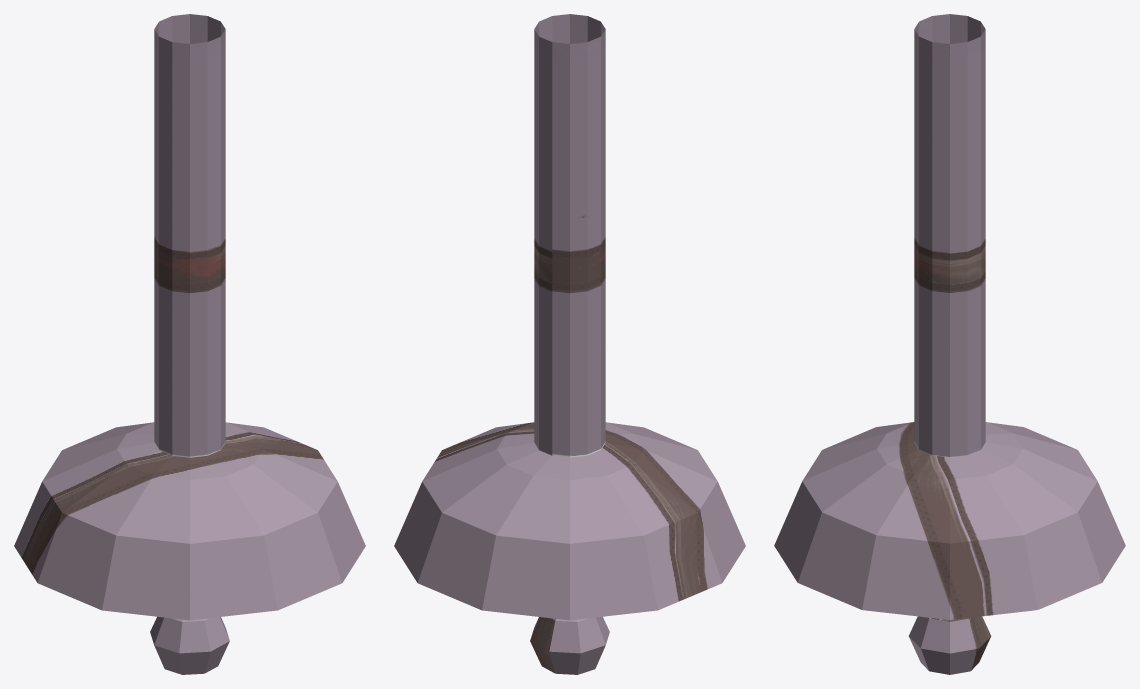
File: Light_Big.obj
The picture shows the model from 3 angles, left to right: view 1: azimuth 30°, elevation 25°; view 2: azimuth 150°, elevation 25°; view 3: azimuth 270°, elevation 25°; orthographic projection.
Visible parts, largest first — view 1: Light_Big; view 2: Light_Big; view 3: Light_Big.
Part boxes in pixels (x1,y1,x2,y2): Light_Big: (14,14,365,674); Light_Big: (394,14,745,674); Light_Big: (774,14,1125,674).
Bounding box in the file's own units: 0.4936 × 0.998 × 0.4936.
